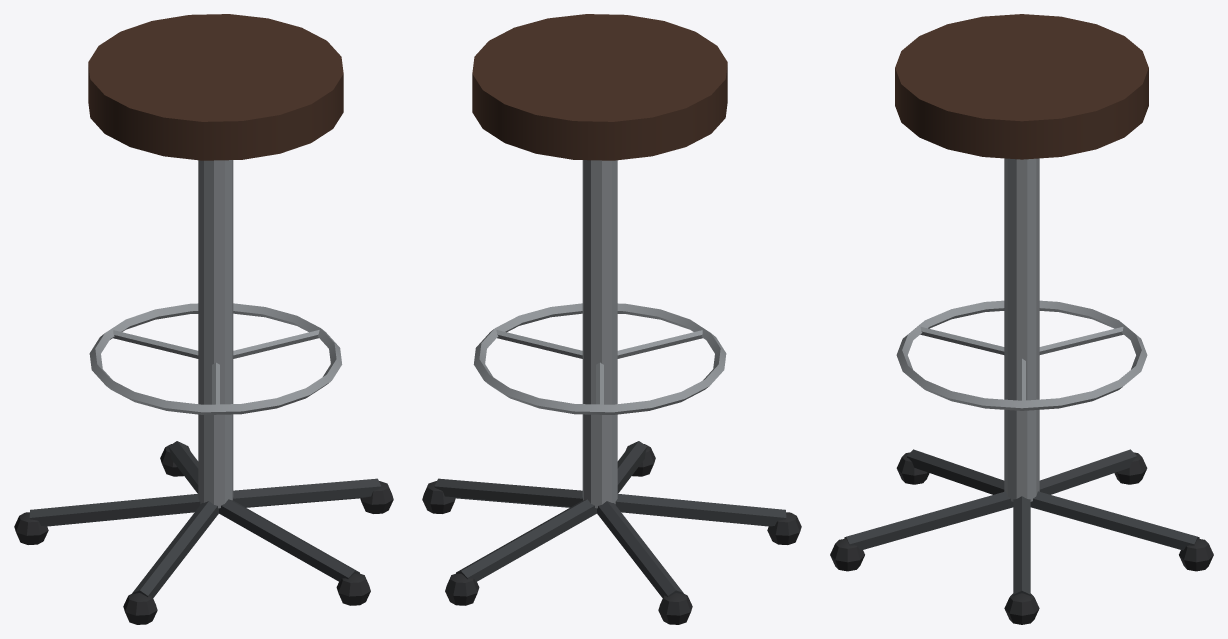
Rendered from prop_stool_teller.glb.
The picture shows the model from 3 angles, left to right: view 1: azimuth 30°, elevation 25°; view 2: azimuth 150°, elevation 25°; view 3: azimuth 270°, elevation 25°; orthographic projection.
Visible parts, largest first — view 1: Stool; view 2: Stool; view 3: Stool.
Boxes of the visible parts, x1,y1,x2,y2 form: Stool: (14, 14, 393, 624); Stool: (422, 14, 801, 624); Stool: (830, 14, 1213, 624).
Size of what is drawn, in the model's own units: 0.5203 by 0.75 by 0.5445.
